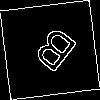B: (25, 25, 80, 81)
